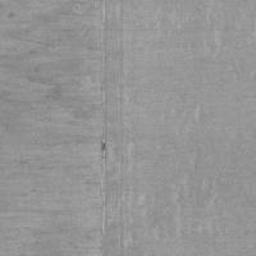Welding line: (99, 0, 108, 256)
